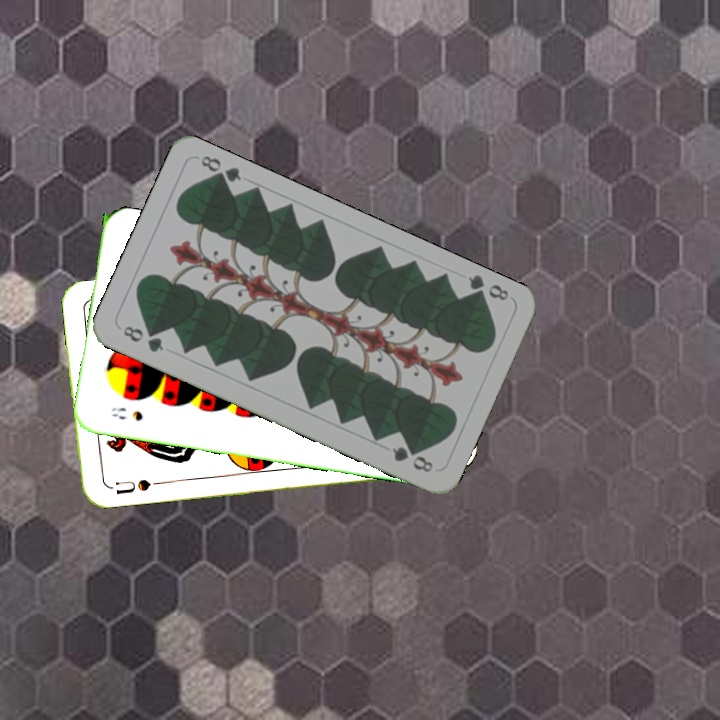G8: (464, 270, 512, 305), (119, 321, 166, 355)
S8: (107, 403, 145, 424)
SU: (112, 475, 153, 497)
